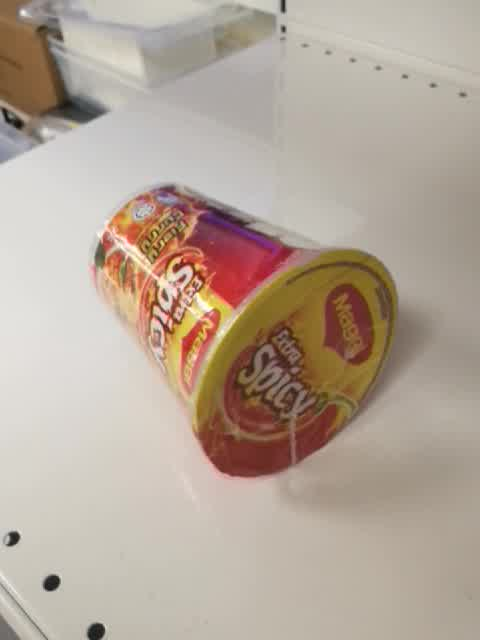maggi: (87, 182, 401, 480)
